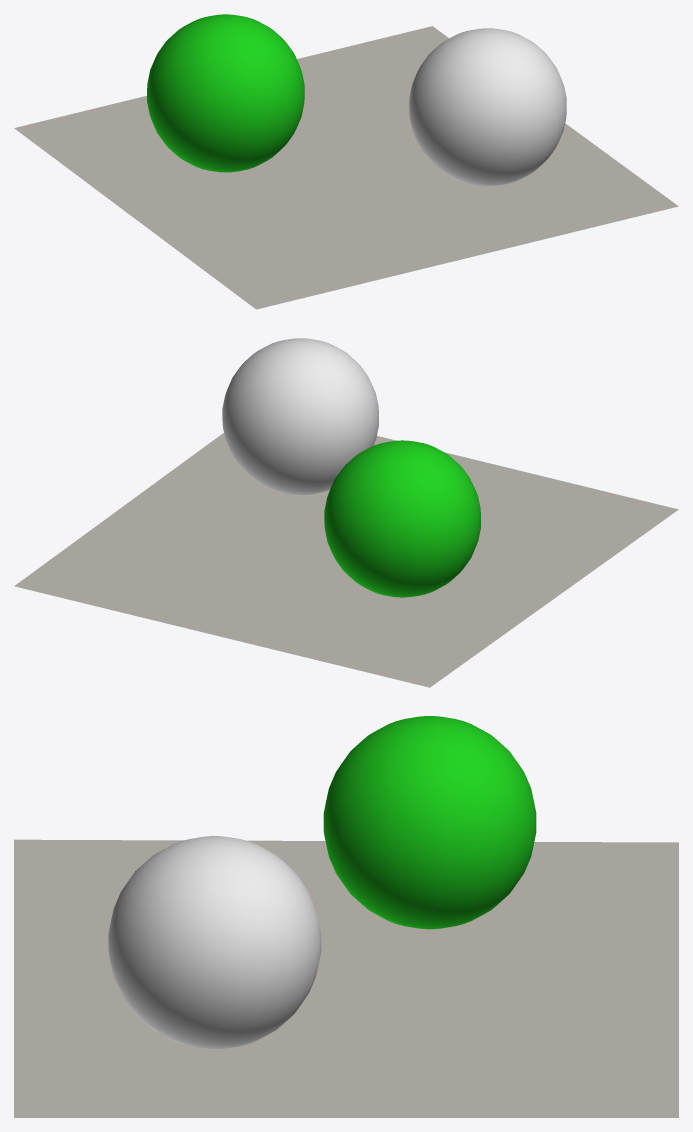
The picture shows the model from 3 angles, top to bottom: view 1: azimuth 30°, elevation 25°; view 2: azimuth 150°, elevation 25°; view 3: azimuth 270°, elevation 25°; orthographic projection. The views are drawn at different scales.
Parts seen in each view (by area): view 1: floor, rightSphere, leftSphere; view 2: floor, leftSphere, rightSphere; view 3: floor, leftSphere, rightSphere.
Part boxes in pixels (x1,y1,x2,y2): floor: (14, 26, 678, 309); rightSphere: (409, 28, 566, 186); leftSphere: (147, 14, 304, 172); floor: (14, 433, 678, 687); leftSphere: (324, 440, 480, 597); rightSphere: (222, 338, 378, 495); floor: (14, 839, 678, 1117); leftSphere: (323, 716, 536, 929); rightSphere: (108, 836, 321, 1049).
Size of the model in its own units: 2.01 by 0.6584 by 2.03.
